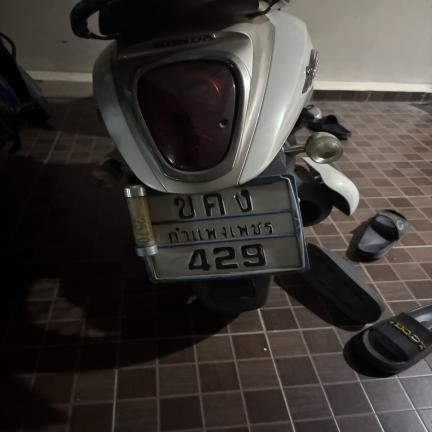2: (211, 244, 240, 272)
4: (183, 246, 212, 274)
9: (238, 243, 268, 268)
A02: (171, 196, 198, 219)
A03: (201, 193, 229, 217)
A07: (233, 188, 255, 213)
KPT: (164, 219, 275, 245)
